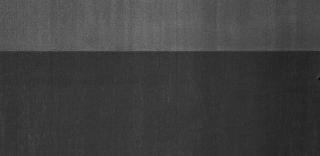punching hole: (318, 76, 320, 81)
welding line: (1, 48, 320, 56)
